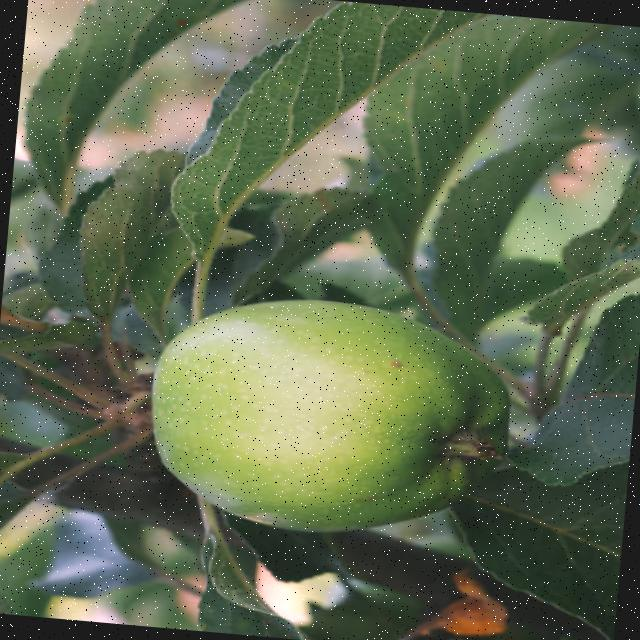Unripe: (135, 286, 518, 548)
